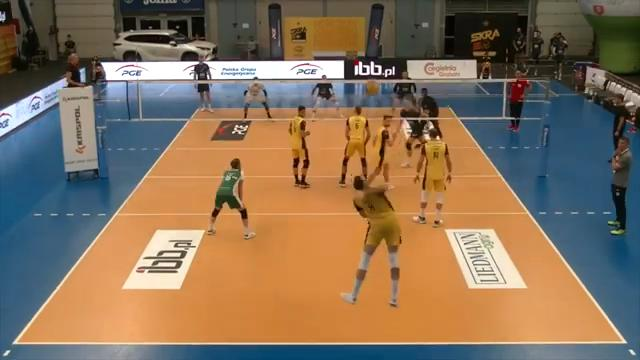Player: (207, 158, 255, 239), (413, 128, 451, 226), (339, 106, 370, 186), (368, 115, 399, 189), (400, 97, 427, 167), (288, 106, 309, 187), (244, 77, 271, 118), (312, 75, 338, 117), (419, 88, 441, 137), (392, 72, 416, 111), (196, 83, 211, 110)
Serve: (338, 160, 404, 308)
ball: (365, 80, 380, 97)
